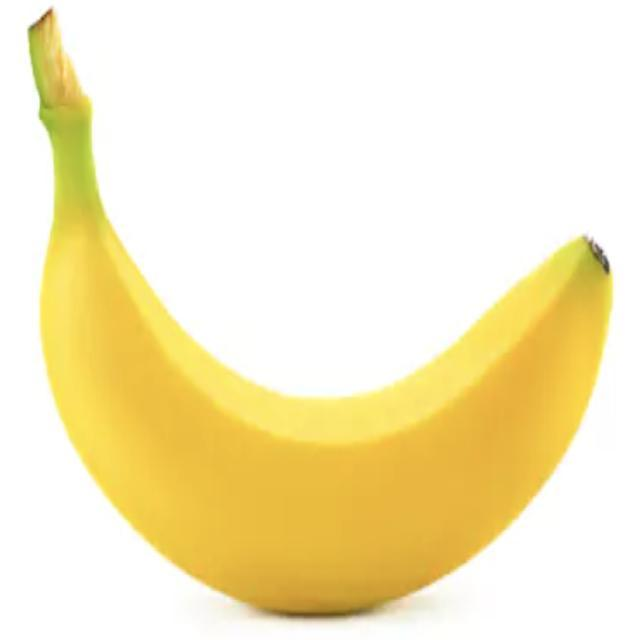Banana: (26, 4, 614, 617)
